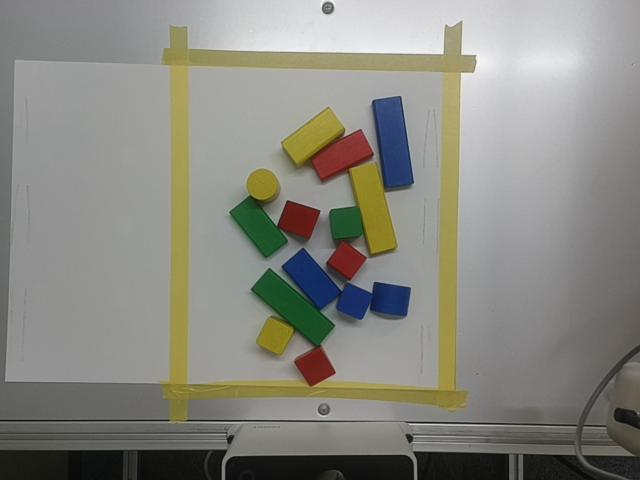blue_cube: (336, 283, 371, 319)
blue_longrect: (372, 96, 413, 189)
blue_rect: (282, 248, 340, 309)
cylinder: (247, 169, 279, 202)
green_cube: (329, 206, 362, 240)
green_longrect: (251, 269, 334, 345)
green_rect: (230, 196, 286, 257)
half_cylinder: (371, 282, 410, 317)
red_cube: (327, 242, 366, 280)
red_rect: (312, 130, 372, 180)
triangle: (277, 200, 320, 240), (294, 347, 335, 386)
yellow_cube: (256, 316, 294, 355)
yellow_longrect: (349, 163, 397, 254)
yelow_rect: (282, 107, 343, 167)
